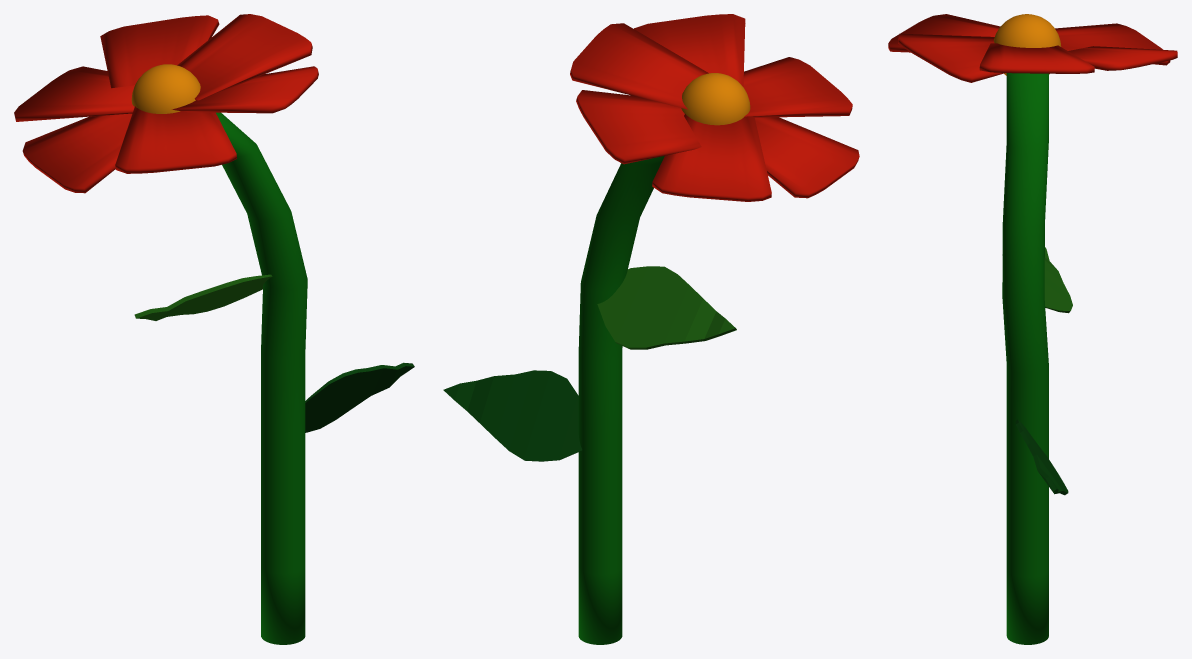
File: flower_01.glb
3 views of the same model, side by side, from view 1: azimuth 30°, elevation 25°; view 2: azimuth 150°, elevation 25°; view 3: azimuth 270°, elevation 25° (orthographic). The views are drawn at different scales.
Parts seen in each view (by area): view 1: Circle, Cylinder, Plane_004, Sphere, Plane_003; view 2: Circle, Cylinder, Plane_004, Plane_003, Sphere; view 3: Cylinder, Circle, Sphere, Plane_003, Plane_004.
Part boxes in pixels (x1,y1,x2,y2): Circle: (14,14,318,193); Cylinder: (216,112,307,644); Plane_004: (305,362,414,432); Sphere: (131,64,200,113); Plane_003: (134,274,272,320); Circle: (570,14,859,201); Cylinder: (578,156,664,644); Plane_004: (443,370,582,461); Plane_003: (597,266,736,349); Sphere: (681,73,750,125); Cylinder: (1002,73,1048,644); Circle: (888,14,1177,82); Sphere: (994,14,1061,75); Plane_003: (1044,247,1072,313); Plane_004: (1015,419,1068,495).
Size of the model in its own units: 0.8089 by 1.22 by 0.5563.
